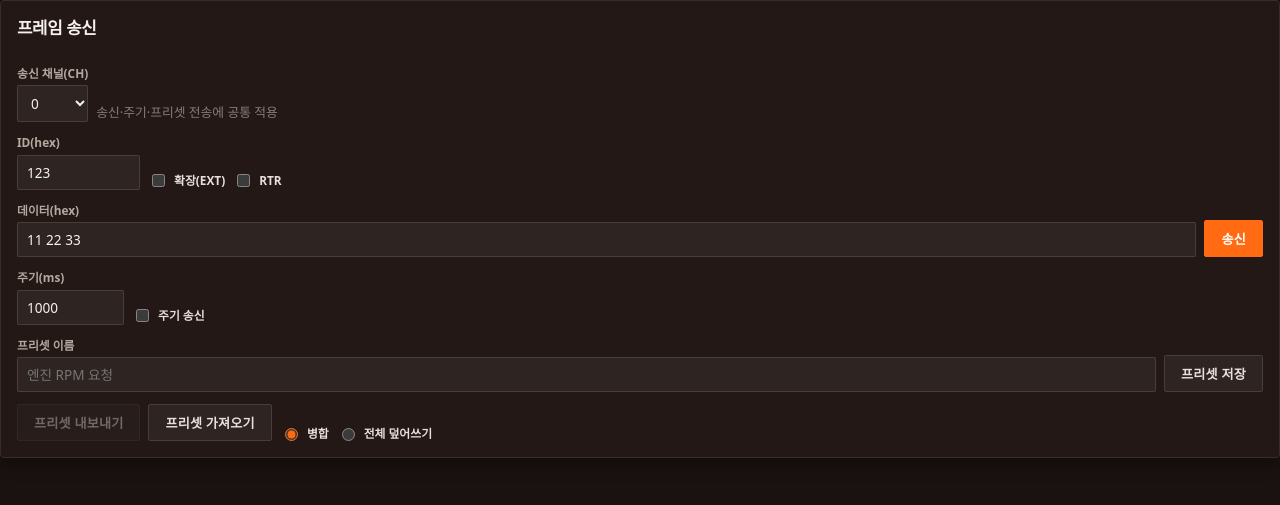
TxPanel › 송신 프리셋 › 빈 이름으로 저장하면 오류를 표시하고 저장하지 않는다
What coordinates should you click on to do the following:
click the button "프리셋 저장"
I would click on:
 (1214, 374)
Its box is [1164,355,1263,392].
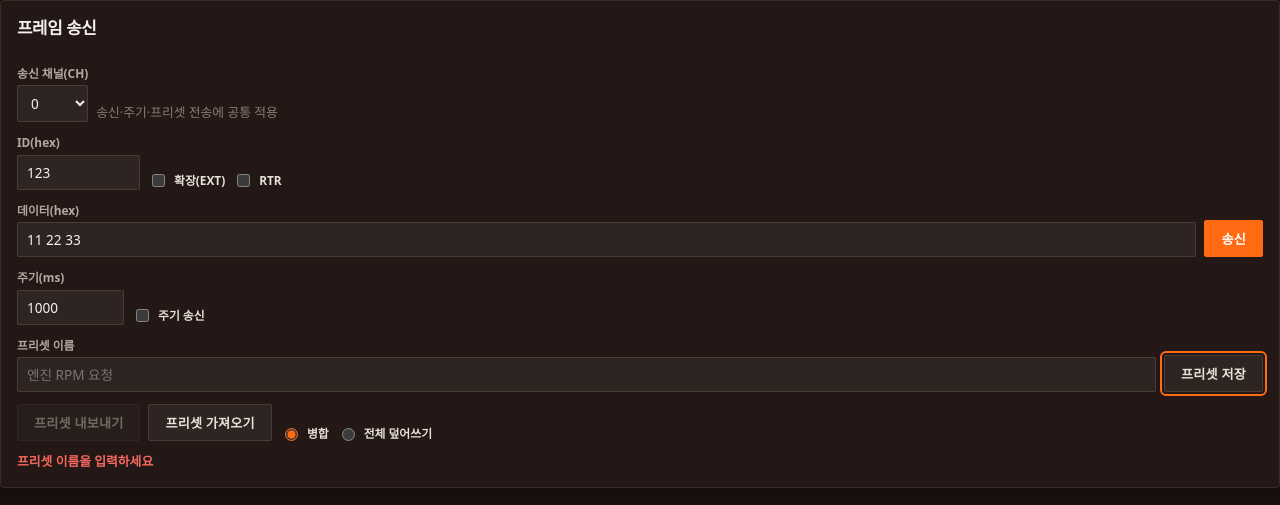
Check: the text "프리셋 이름을 입력하세요" is shown, box [17,452,153,470]
